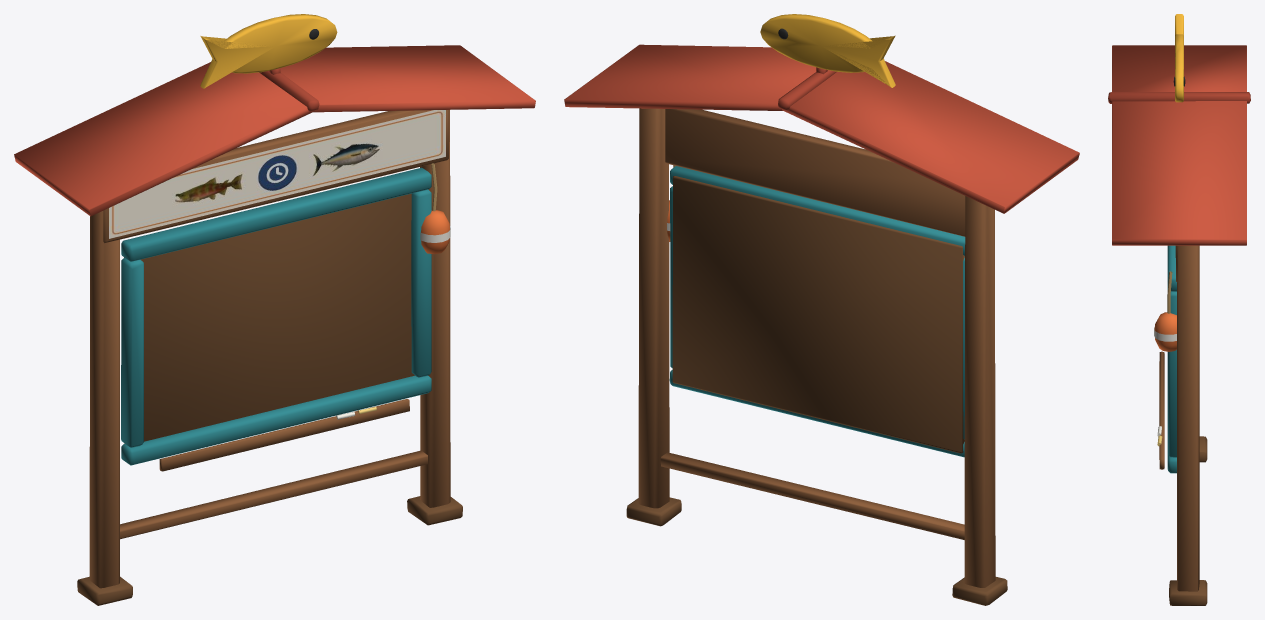
Rendered from fish-board.glb.
3 renders of one model, left to right at view 1: azimuth 30°, elevation 25°; view 2: azimuth 150°, elevation 25°; view 3: azimuth 270°, elevation 25°, orthographic. The views are drawn at different scales.
Parts seen in each view (by area): view 1: fish-board, ridge-fish; view 2: fish-board, ridge-fish; view 3: fish-board, ridge-fish.
Boxes of the visible parts, x1,y1,x2,y2 form: fish-board: (14, 45, 535, 605); ridge-fish: (200, 14, 337, 88); fish-board: (564, 44, 1079, 605); ridge-fish: (760, 14, 895, 87); fish-board: (1108, 45, 1250, 605); ridge-fish: (1173, 14, 1185, 102).
Bounding box in the file's own units: 2.64 × 3.05 × 0.82.
Materials: 3 (1 with a texture image).
